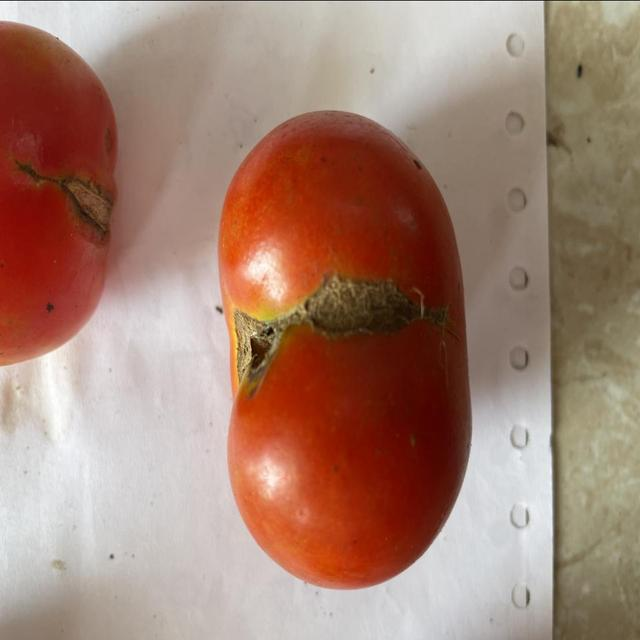Cracking Fruit: (124, 129, 422, 341)
